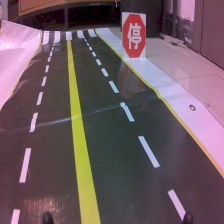stop: (120, 11, 148, 61)
